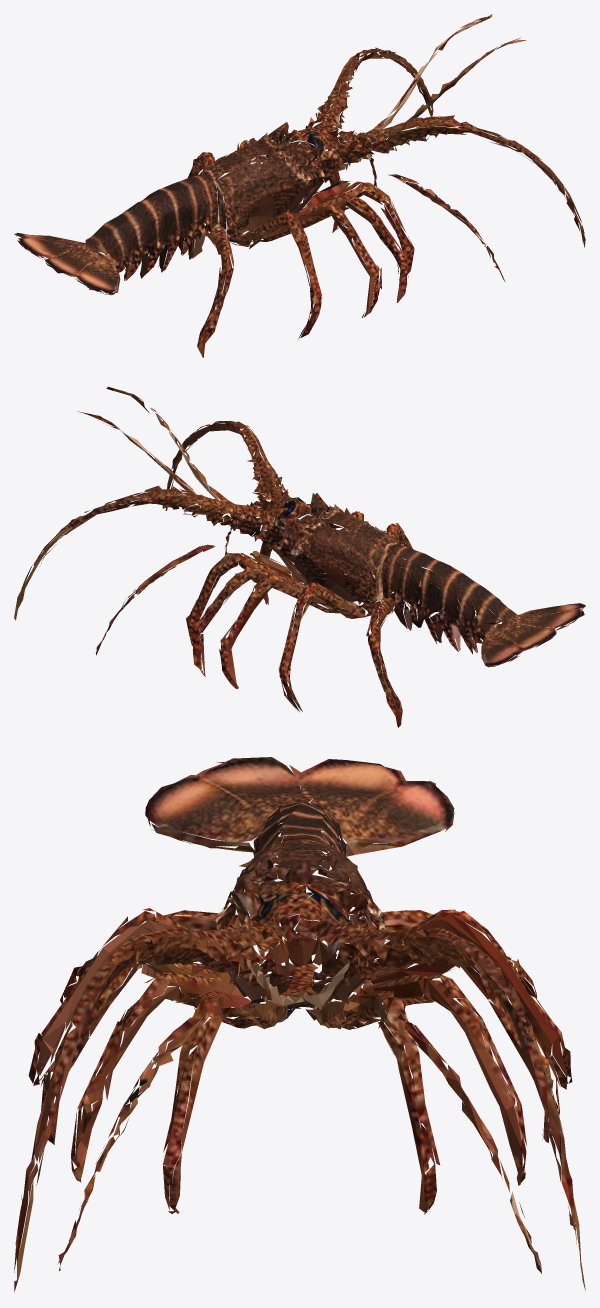
The model's file is panulirus-echinatus.glb.
3 views of the same model, one above another, from view 1: azimuth 30°, elevation 25°; view 2: azimuth 150°, elevation 25°; view 3: azimuth 270°, elevation 25° (orthographic). The views are drawn at different scales.
Visible parts, largest first — view 1: geometry_0; view 2: geometry_0; view 3: geometry_0.
Part boxes in pixels (left/top/right/bottom): geometry_0: left=14, top=14, right=585, bottom=357; geometry_0: left=14, top=386, right=585, bottom=727; geometry_0: left=14, top=757, right=585, bottom=1292.
Bounding box in the file's own units: 2 × 0.7897 × 1.1.
1 material, 1 textured.
